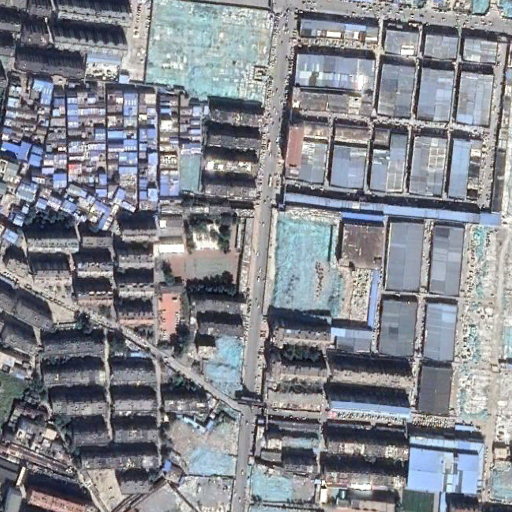cw: (451, 222, 512, 512), (143, 2, 278, 109), (272, 212, 376, 324), (160, 415, 239, 479), (198, 335, 246, 387), (250, 468, 291, 502), (179, 153, 200, 191)
